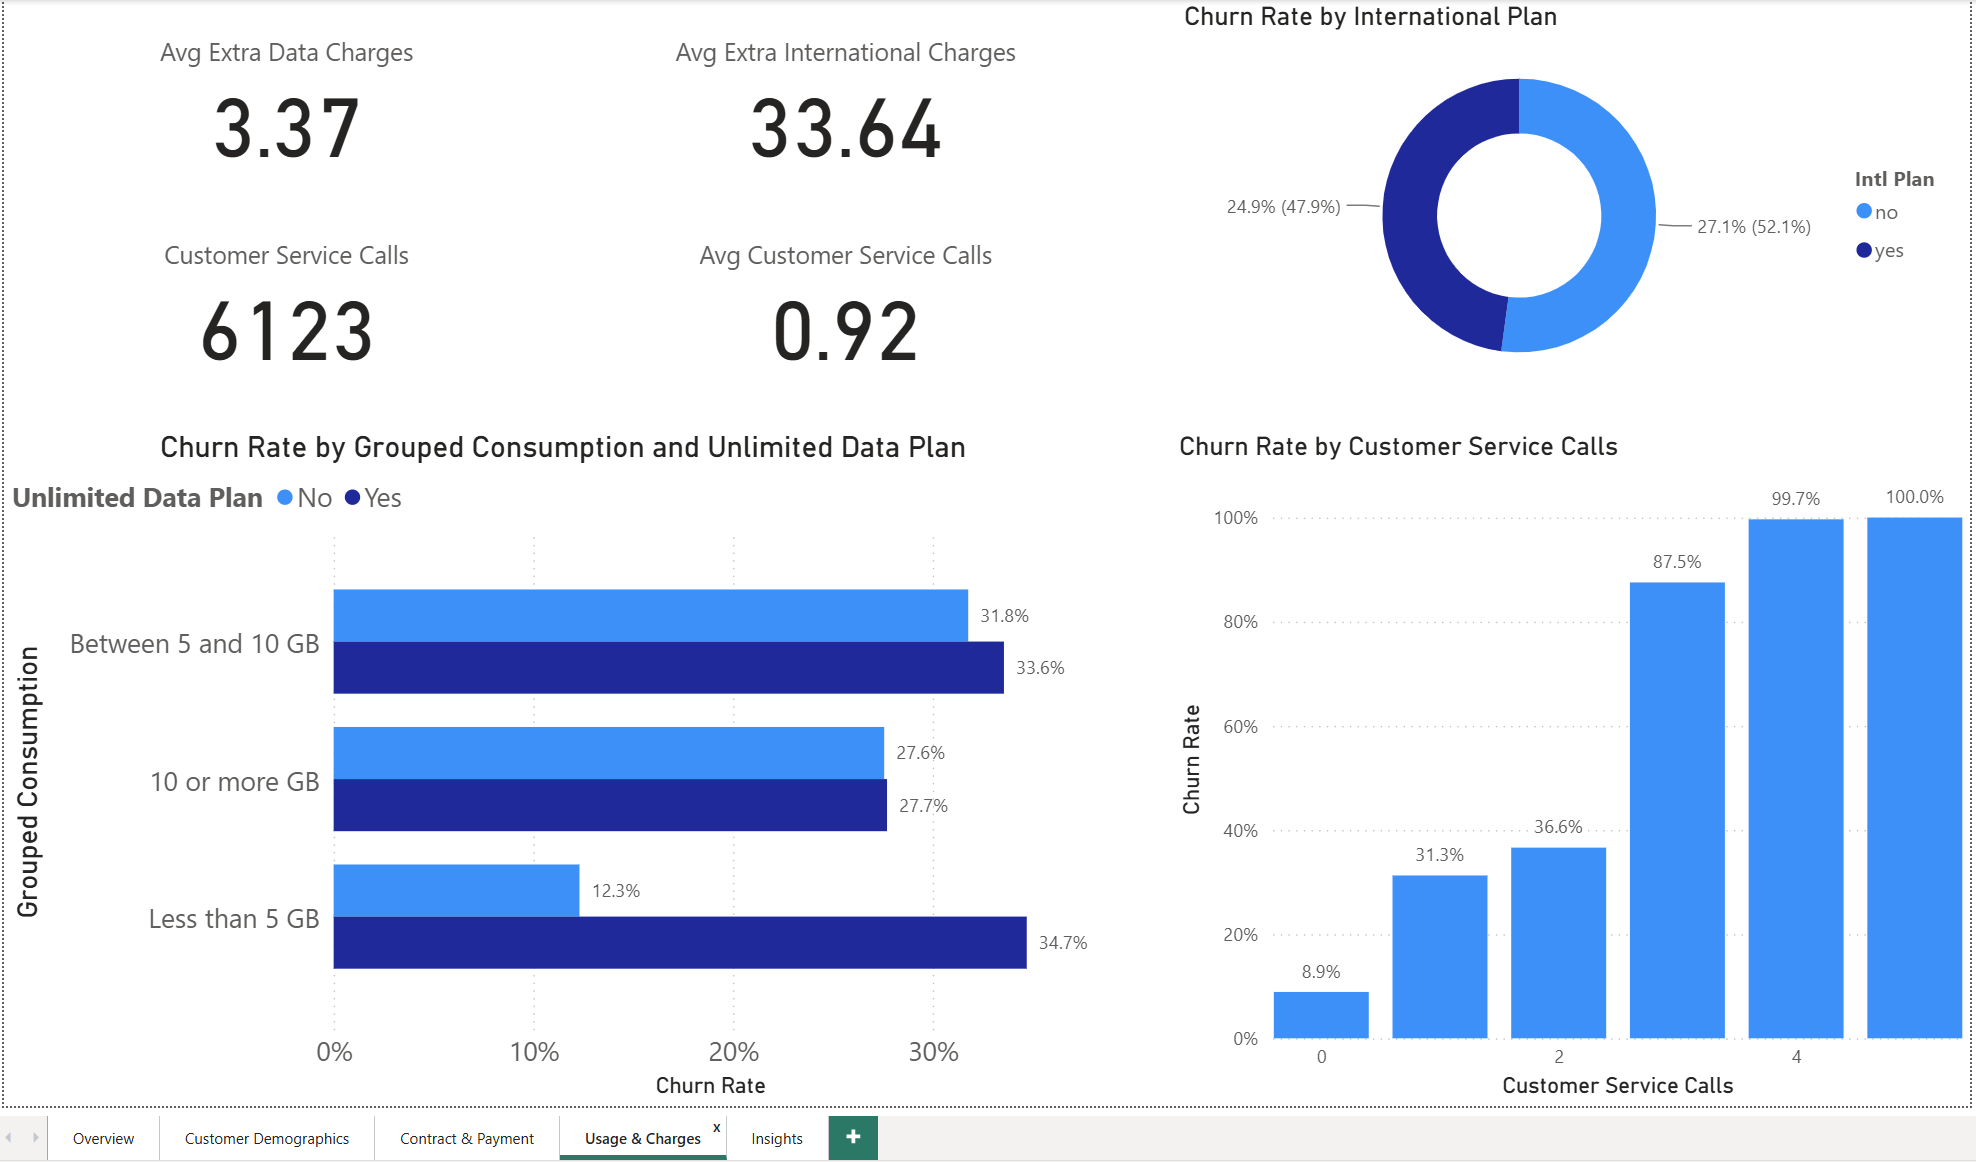

Layout of this report page (visuals, bound fields, positions):
{"tool":"powerbi","page":{"name":"Usage & Charges","canvas":[1280,720],"ordinal":3},"visuals":[{"type":"donutChart","title":"Churn Rate by International Plan","fields":{"Category":["Databel - Data.Intl Plan"],"Y":["Databel - Data.Churn Rate"]},"box":[763.6,0,516.6,261.8],"z":0},{"type":"clusteredBarChart","fields":{"Category":["Databel - Data.Grouped Consumption"],"Series":["Databel - Data.Unlimited Data Plan"],"Y":["Databel - Data.Churn Rate"]},"box":[0,280,728,440],"z":1000},{"type":"cardVisual","fields":{"Data":["Databel - Data.Avg Extra Data Charges"]},"box":[0,0,368,136],"z":2000},{"type":"cardVisual","fields":{"Data":["Databel - Data.Avg Extra International Charges"]},"box":[376,0,344,136],"z":3000},{"type":"cardVisual","fields":{"Data":["Sum(Databel - Data.Customer Service Calls)"]},"box":[0,136,368,128],"z":4000},{"type":"cardVisual","fields":{"Data":["Databel - Data.Avg Customer Service Calls"]},"box":[376,136,344,128],"z":5000},{"type":"clusteredColumnChart","fields":{"Category":["Databel - Data.Customer Service Calls"],"Y":["Databel - Data.Churn Rate"]},"box":[760,280,520,440],"z":6000}]}

Visuals, with their boxes on the page's 1280x720 design canvas (x1, y1, x2, y2). These are canvas units, not pixel positions in the 1976x1162 screenshot, which may show the page scaled, cropped or inside an application window:
"Churn Rate by International Plan" donutChart: crop(764, 0, 1280, 262)
clusteredBarChart - Databel - Data.Grouped Consumption x Databel - Data.Unlimited Data Plan: crop(0, 280, 728, 720)
cardVisual - Databel - Data.Avg Extra Data Charges: crop(0, 0, 368, 136)
cardVisual - Databel - Data.Avg Extra International Charges: crop(376, 0, 720, 136)
cardVisual - Sum(Databel - Data.Customer Service Calls): crop(0, 136, 368, 264)
cardVisual - Databel - Data.Avg Customer Service Calls: crop(376, 136, 720, 264)
clusteredColumnChart - Databel - Data.Customer Service Calls x Databel - Data.Churn Rate: crop(760, 280, 1280, 720)
